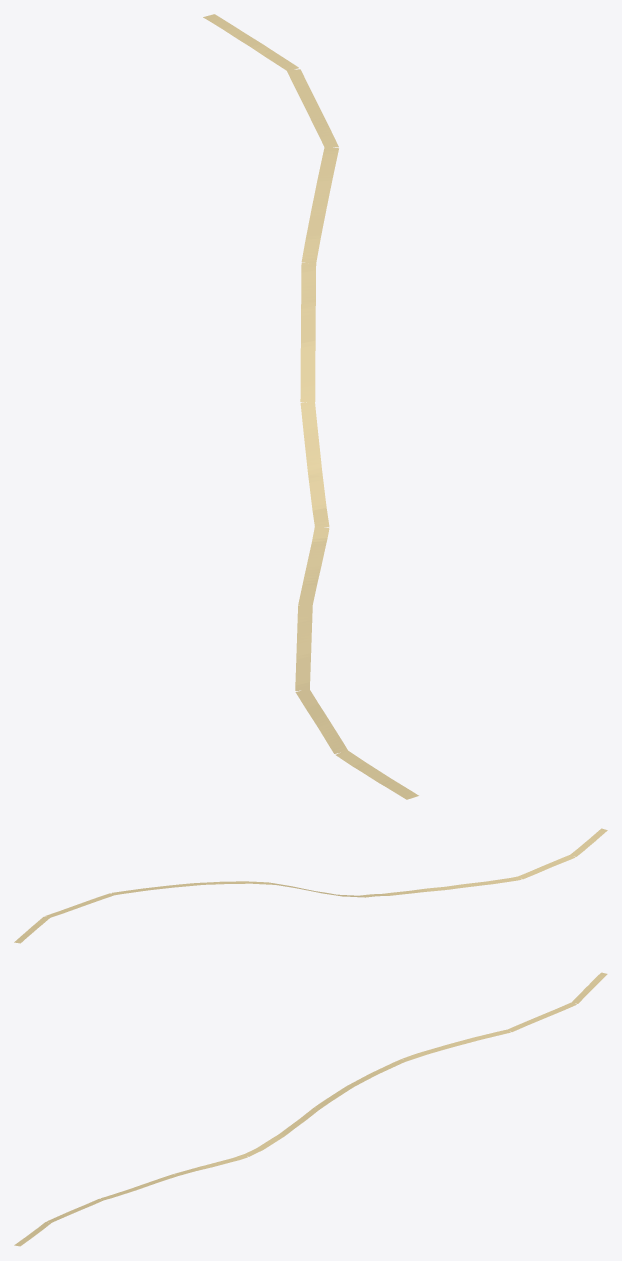
The model's file is Trail_04.glb.
3 renders of one model, top to bottom at view 1: azimuth 30°, elevation 25°; view 2: azimuth 150°, elevation 25°; view 3: azimuth 330°, elevation 25°, orthographic. The views are drawn at different scales.
Parts seen in each view (by area): view 1: Trail_04; view 2: Trail_04; view 3: Trail_04.
Boxes of the visible parts, x1=… form: Trail_04: x1=203, y1=14, x2=418, y2=799; Trail_04: x1=14, y1=828, x2=607, y2=943; Trail_04: x1=14, y1=972, x2=607, y2=1246.
Bounding box in the file's own units: 70.87 × 21.46 × 165.
